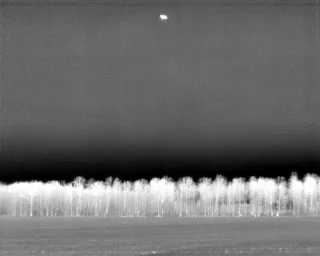DRONE: (157, 11, 171, 24)
